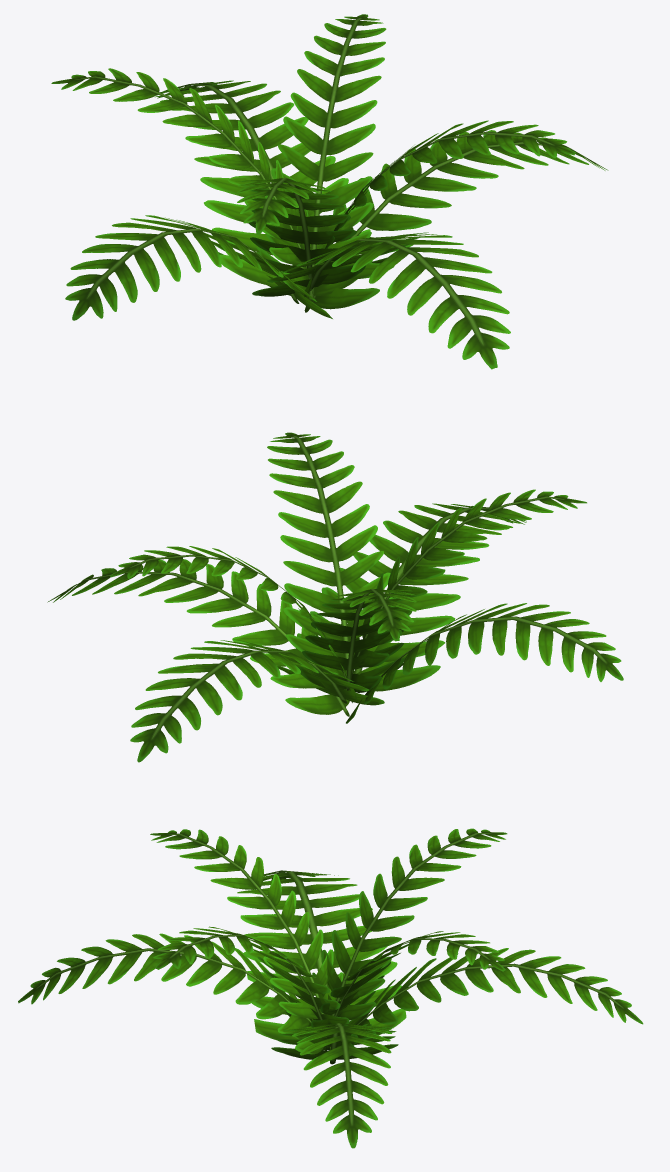
The model's file is sm_env_fern.fbx.
3 renders of one model, top to bottom at view 1: azimuth 30°, elevation 25°; view 2: azimuth 150°, elevation 25°; view 3: azimuth 270°, elevation 25°, orthographic. The views are drawn at different scales.
Visible parts, largest first — view 1: fern_leaf17; view 2: fern_leaf17; view 3: fern_leaf17.
Part boxes in pixels (x1=…): fern_leaf17: x1=51, y1=14, x2=608, y2=369; fern_leaf17: x1=47, y1=432, x2=623, y2=762; fern_leaf17: x1=18, y1=828, x2=643, y2=1148.
Size of the model in its own units: 0.9633 by 0.3445 by 1.03.
